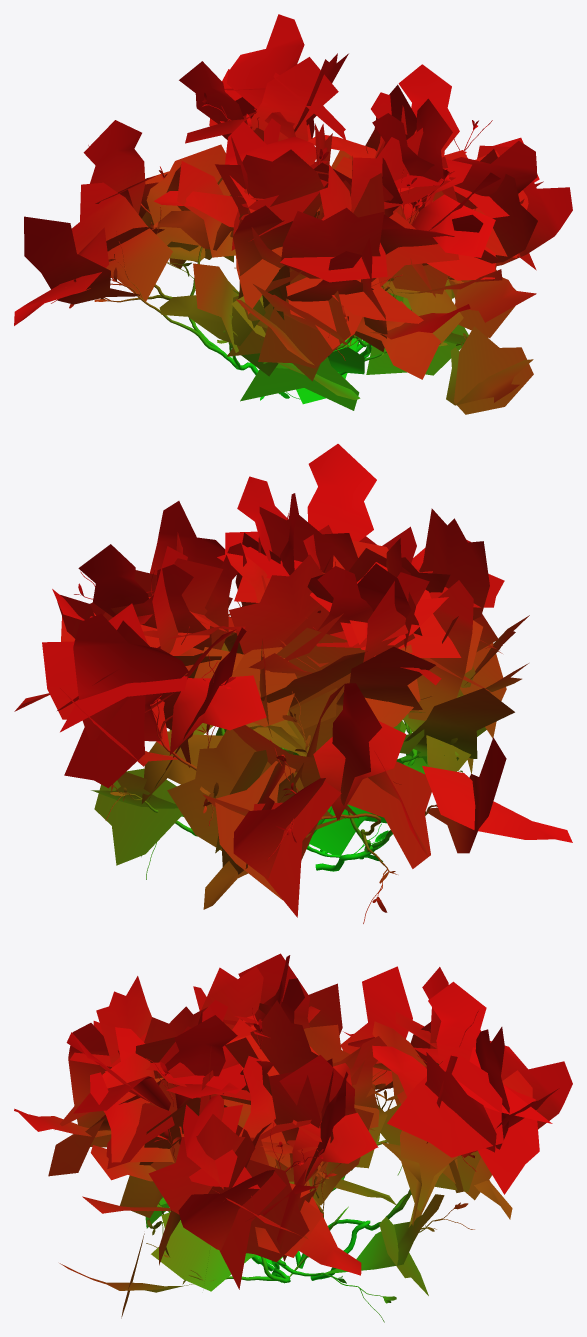
The model's file is Downy Willow_LOD3_Var2_wknlfiuqx.fbx.
3 renders of one model, top to bottom at view 1: azimuth 30°, elevation 25°; view 2: azimuth 150°, elevation 25°; view 3: azimuth 270°, elevation 25°, orthographic. The views are drawn at different scales.
Visible parts, largest first — view 1: _eivn_Var2_LOD3; view 2: _eivn_Var2_LOD3; view 3: _eivn_Var2_LOD3.
Boxes of the visible parts, x1,y1,x2,y2 form: _eivn_Var2_LOD3: (14, 14, 572, 414); _eivn_Var2_LOD3: (14, 444, 572, 923); _eivn_Var2_LOD3: (14, 953, 572, 1322).
Size of the model in its own units: 202 by 117 by 195.
